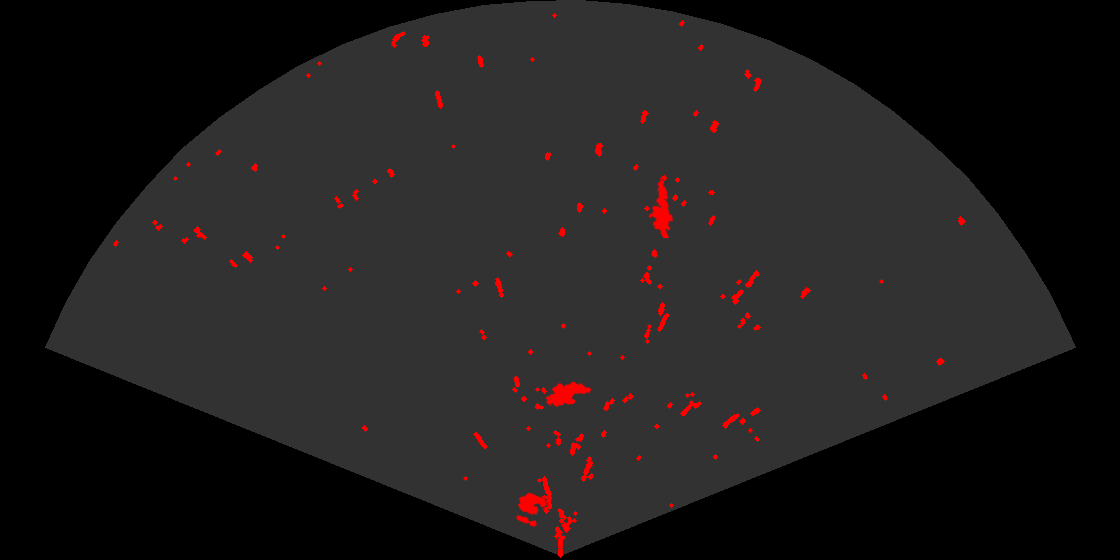AUV: (544, 380, 593, 408)
ball: (515, 491, 549, 528)
frogman: (647, 178, 675, 238)
